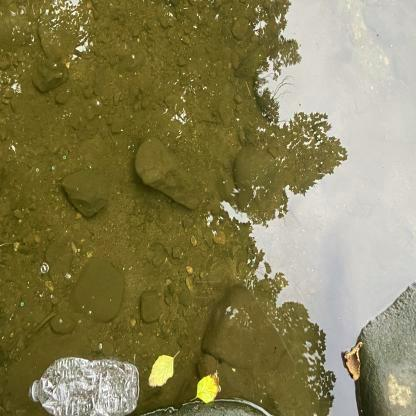Plastic: (27, 353, 144, 416)
